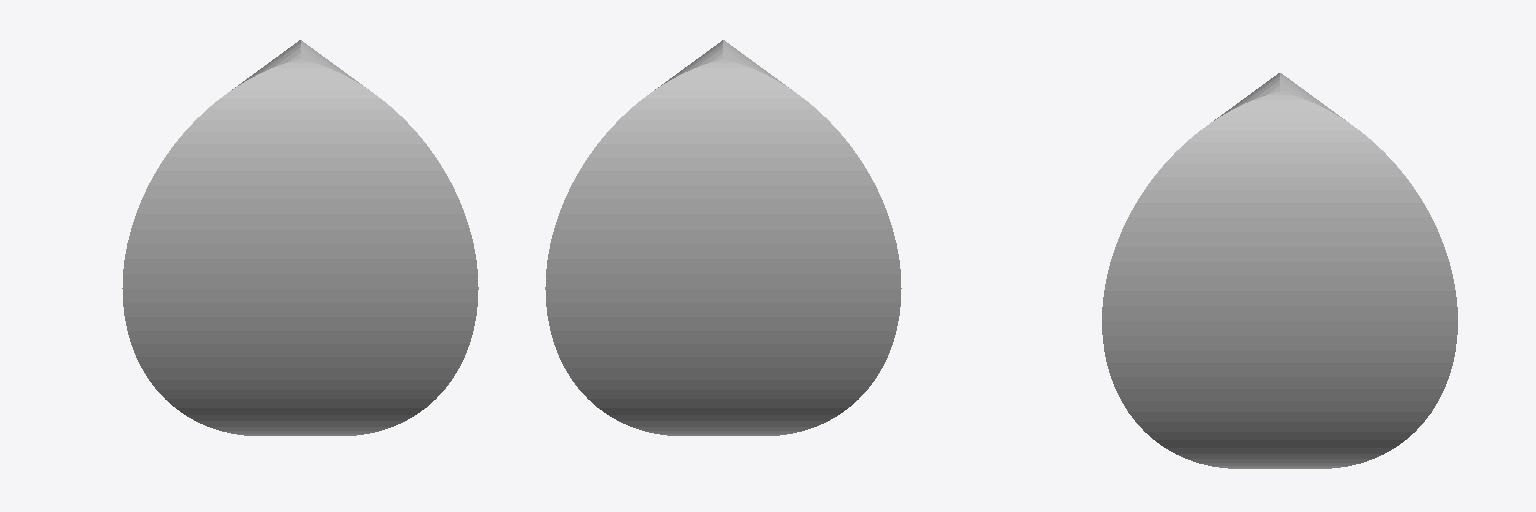
File: foco.obj
3 renders of one model, left to right at view 1: azimuth 30°, elevation 25°; view 2: azimuth 150°, elevation 25°; view 3: azimuth 270°, elevation 25°, orthographic.
Parts seen in each view (by area): view 1: Sphere; view 2: Sphere; view 3: Sphere.
Boxes of the visible parts, box(x1,y1,x2,y2) form: Sphere: box(122, 40, 478, 435); Sphere: box(545, 40, 901, 435); Sphere: box(1102, 73, 1457, 468).
Size of the model in its own units: 0.375 by 0.5 by 0.433.